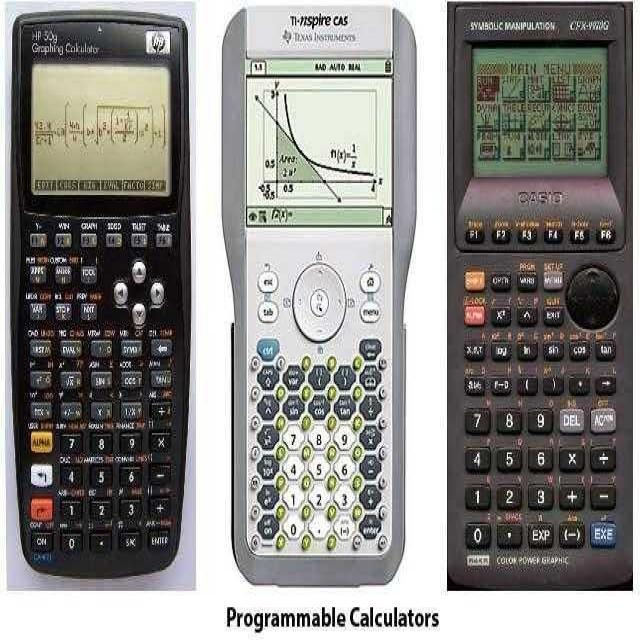Calculator: (222, 7, 416, 583), (448, 3, 631, 586), (11, 10, 190, 577)
